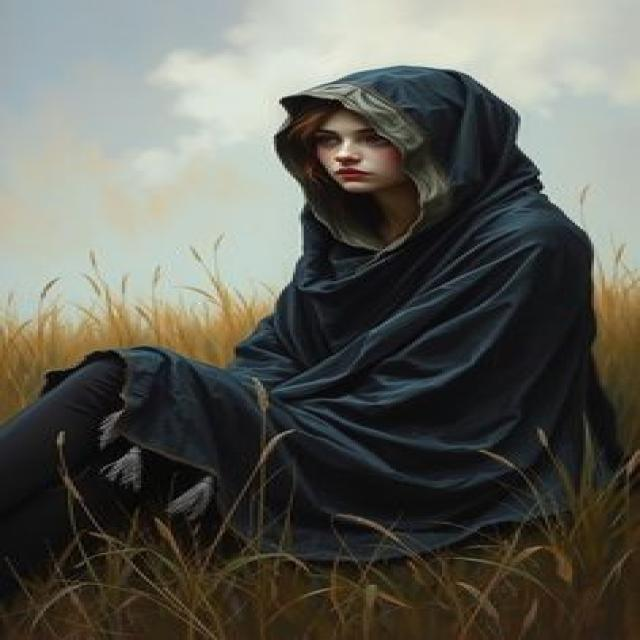4_capucha: (276, 64, 546, 254)
